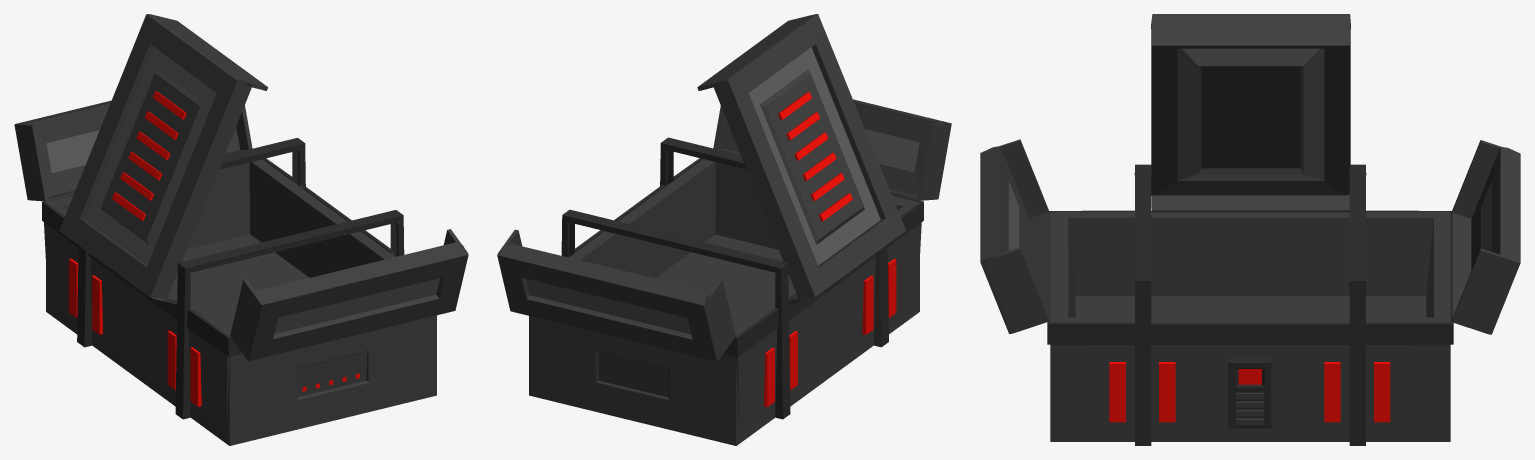
The model's file is Box4_Open.fbx.
3 renders of one model, left to right at view 1: azimuth 30°, elevation 25°; view 2: azimuth 150°, elevation 25°; view 3: azimuth 270°, elevation 25°, orthographic. The views are drawn at different scales.
Visible parts, largest first — view 1: Cube.004; view 2: Cube.004; view 3: Cube.004.
Part boxes in pixels (x1,y1,x2,y2): Cube.004: (14,14,468,445); Cube.004: (497,14,951,445); Cube.004: (980,14,1520,445).
Size of the model in its own units: 182 by 220 by 310.
